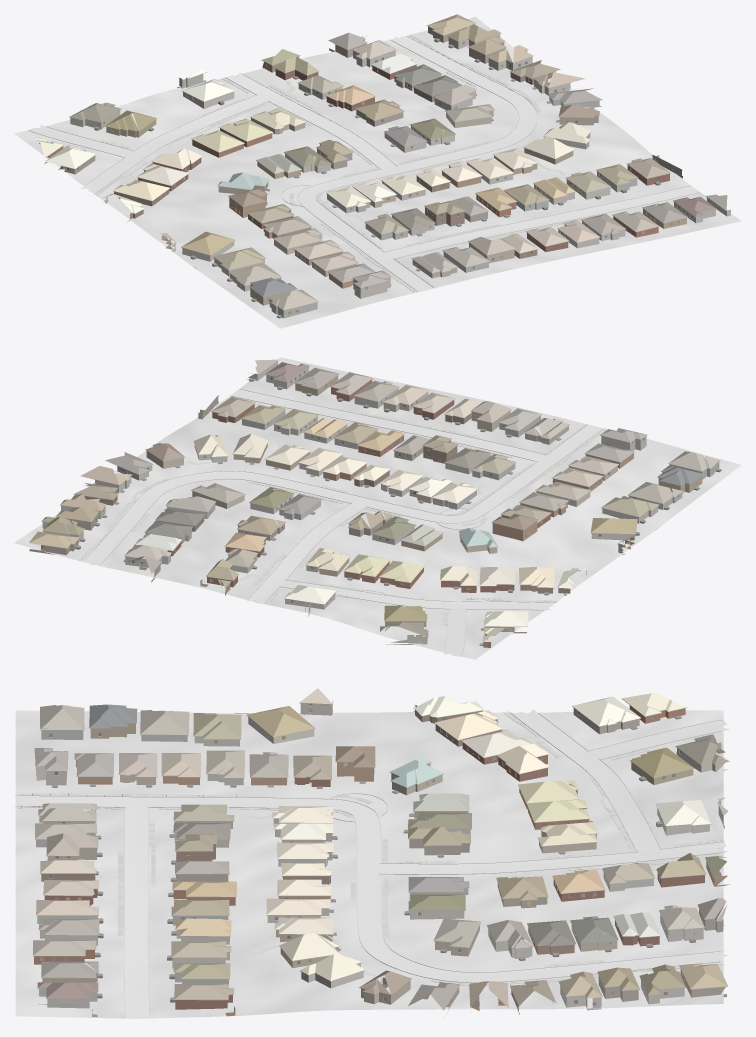
The picture shows the model from 3 angles, top to bottom: view 1: azimuth 30°, elevation 25°; view 2: azimuth 150°, elevation 25°; view 3: azimuth 270°, elevation 25°; orthographic projection. The views are drawn at different scales.
Visible parts, largest first — view 1: ground, roof, concrete, wall, detail, wall_stone, wall_stucco, walk, curb, glass; view 2: ground, roof, concrete, wall, detail, wall_stone, wall_stucco, walk, curb; view 3: ground, roof, concrete, wall, detail, wall_stone, walk, wall_stucco, curb, glass.
Part boxes in pixels (left/top/right/bottom): ground: left=14, top=17, right=741, bottom=328; roof: left=35, top=14, right=727, bottom=310; concrete: left=29, top=36, right=698, bottom=291; wall: left=44, top=26, right=686, bottom=305; detail: left=31, top=23, right=726, bottom=318; wall_stone: left=172, top=34, right=730, bottom=298; wall_stucco: left=70, top=74, right=637, bottom=318; walk: left=95, top=34, right=582, bottom=292; curb: left=28, top=36, right=699, bottom=291; glass: left=67, top=41, right=692, bottom=301; ground: left=14, top=357, right=741, bottom=659; roof: left=29, top=359, right=719, bottom=641; concrete: left=84, top=389, right=602, bottom=656; wall: left=29, top=375, right=702, bottom=647; detail: left=36, top=360, right=721, bottom=645; wall_stone: left=42, top=361, right=658, bottom=573; wall_stucco: left=114, top=410, right=719, bottom=644; walk: left=78, top=412, right=606, bottom=625; curb: left=82, top=389, right=659, bottom=656; ground: left=15, top=710, right=723, bottom=1018; roof: left=33, top=688, right=729, bottom=1010; concrete: left=17, top=709, right=729, bottom=1017; wall: left=34, top=705, right=729, bottom=1014; detail: left=33, top=698, right=727, bottom=1017; wall_stone: left=36, top=701, right=703, bottom=1014; walk: left=14, top=712, right=725, bottom=985; wall_stucco: left=36, top=717, right=727, bottom=1010; curb: left=18, top=711, right=725, bottom=1017; glass: left=40, top=711, right=685, bottom=1005.
Size of the model in its own units: 264 by 14.55 by 257.
